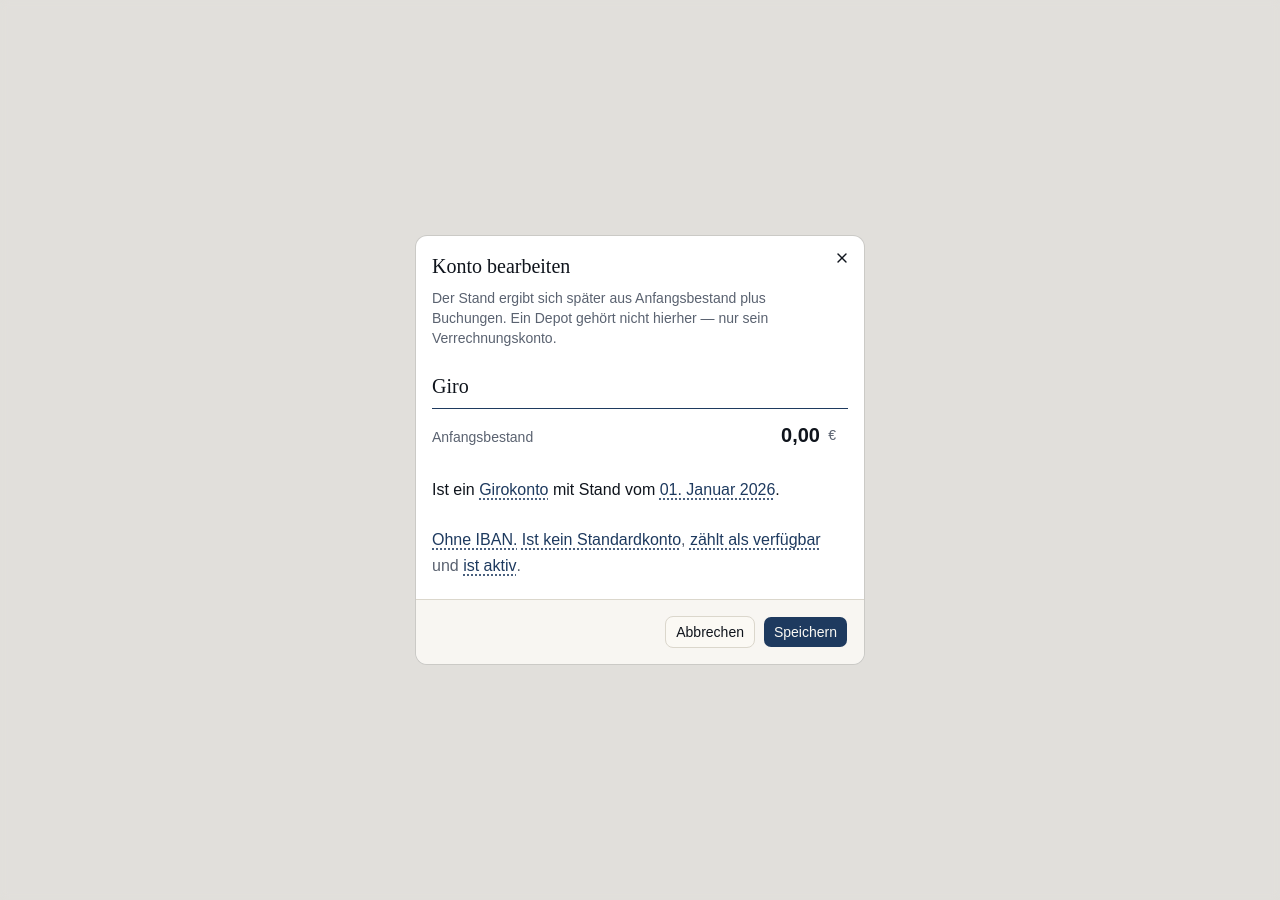
Test: AccountDialog delete › has no delete button once the account is in use; the Aktiv word is what is left
Click the button "ist aktiv". click: [490, 566]
box: [461,553,518,579]
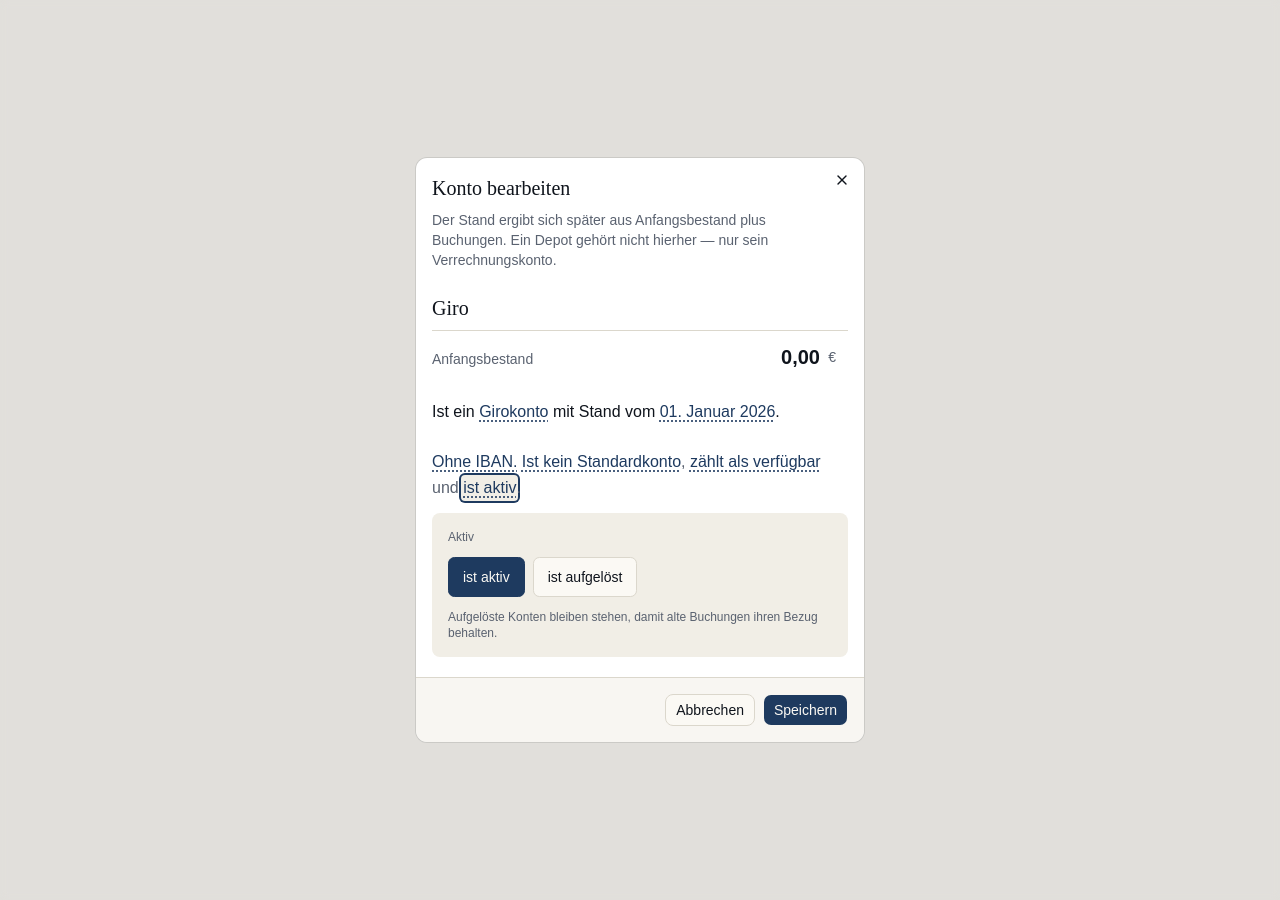
Now the element "Aktiv" is shown, box [432,513,848,657]
